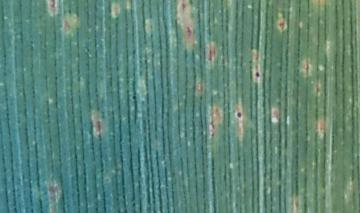tarspot: (185, 24, 192, 38), (180, 1, 188, 13), (233, 110, 243, 119), (253, 69, 261, 77), (50, 1, 56, 8), (131, 95, 138, 100)
